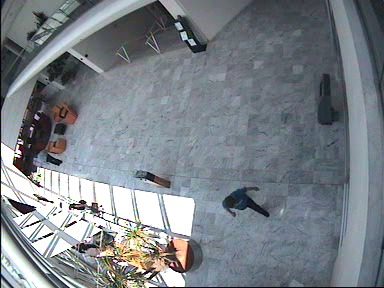person: (222, 186, 269, 217), (68, 200, 104, 214), (35, 150, 63, 166)
